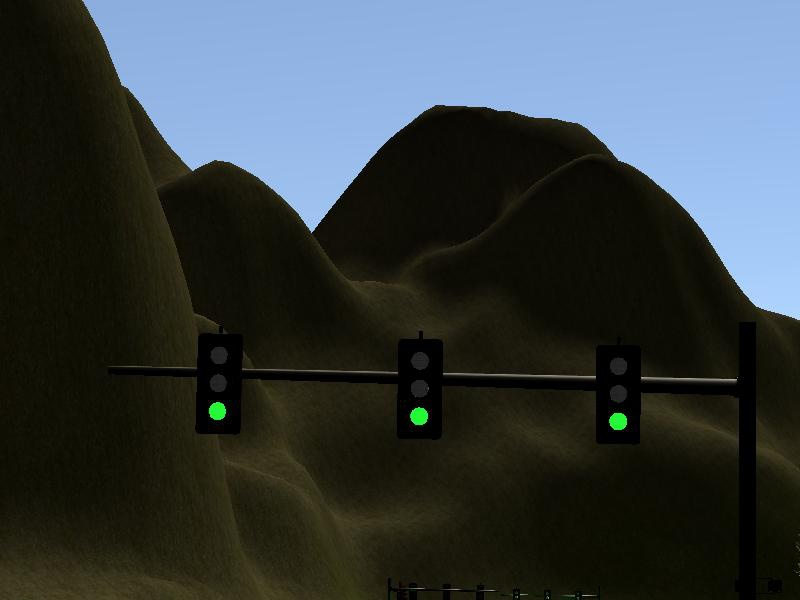green: (591, 335, 642, 448), (395, 328, 441, 442), (197, 322, 243, 435)
